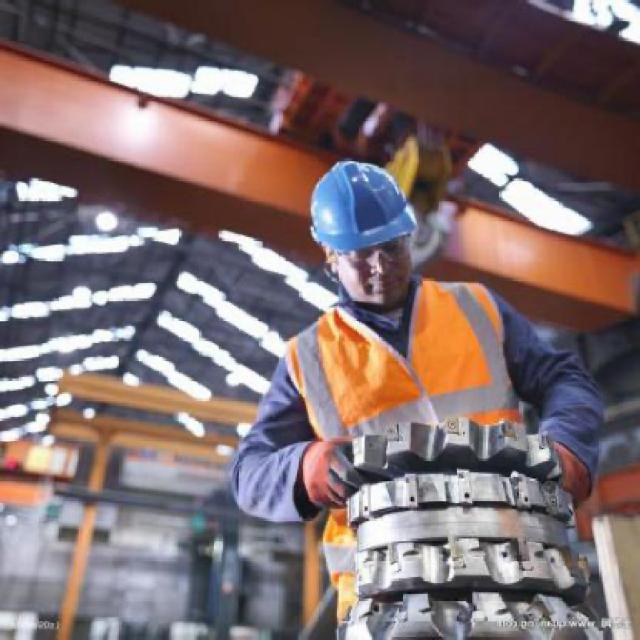helmet: (303, 146, 428, 309)
